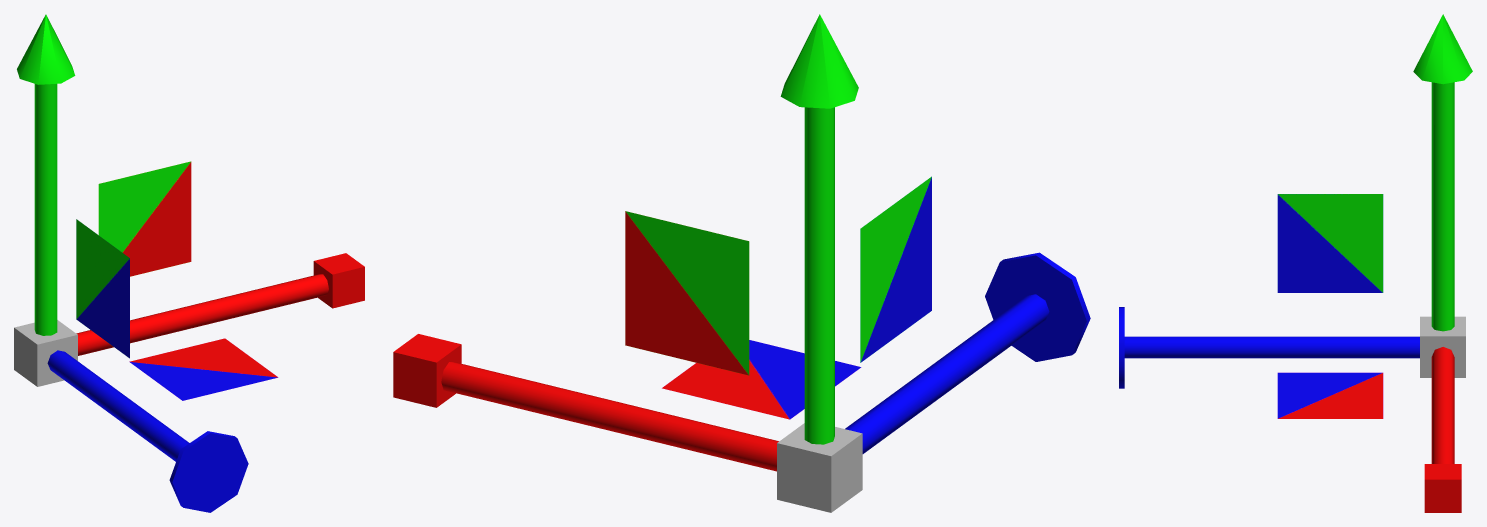
The model's file is GizmoModelAdvanced.FBX.
3 views of the same model, side by side, from view 1: azimuth 30°, elevation 25°; view 2: azimuth 150°, elevation 25°; view 3: azimuth 270°, elevation 25° (orthographic). The views are drawn at different scales.
Visible parts, largest first — view 1: Z_Rotate, XY, Y_Translate, X_Scale, YZ, XZ, Pivot; view 2: XY, Y_Translate, X_Scale, Z_Rotate, YZ, XZ, Pivot; view 3: YZ, Y_Translate, Z_Rotate, XZ, X_Scale, Pivot.
Part boxes in pixels (x1=…): Z_Rotate: x1=47, y1=350, x2=248, y2=512; XY: x1=98, y1=161, x2=191, y2=276; Y_Translate: x1=17, y1=14, x2=75, y2=335; X_Scale: x1=76, y1=253, x2=364, y2=355; YZ: x1=76, y1=219, x2=129, y2=358; XZ: x1=129, y1=338, x2=278, y2=400; Pivot: x1=14, y1=320, x2=77, y2=386; XY: x1=625, y1=211, x2=749, y2=375; Y_Translate: x1=780, y1=14, x2=858, y2=444; X_Scale: x1=393, y1=334, x2=778, y2=471; Z_Rotate: x1=845, y1=252, x2=1090, y2=453; YZ: x1=860, y1=176, x2=931, y2=362; XZ: x1=662, y1=340, x2=861, y2=419; Pivot: x1=777, y1=423, x2=862, y2=512; YZ: x1=1277, y1=194, x2=1383, y2=292; Y_Translate: x1=1413, y1=14, x2=1472, y2=331; Z_Rotate: x1=1119, y1=307, x2=1419, y2=388; XZ: x1=1277, y1=372, x2=1383, y2=418; X_Scale: x1=1424, y1=347, x2=1461, y2=512; Pivot: x1=1420, y1=316, x2=1465, y2=377.
Bounding box in the file's own units: 85.85 × 89.35 × 76.81.
7 materials, 3 textured.
